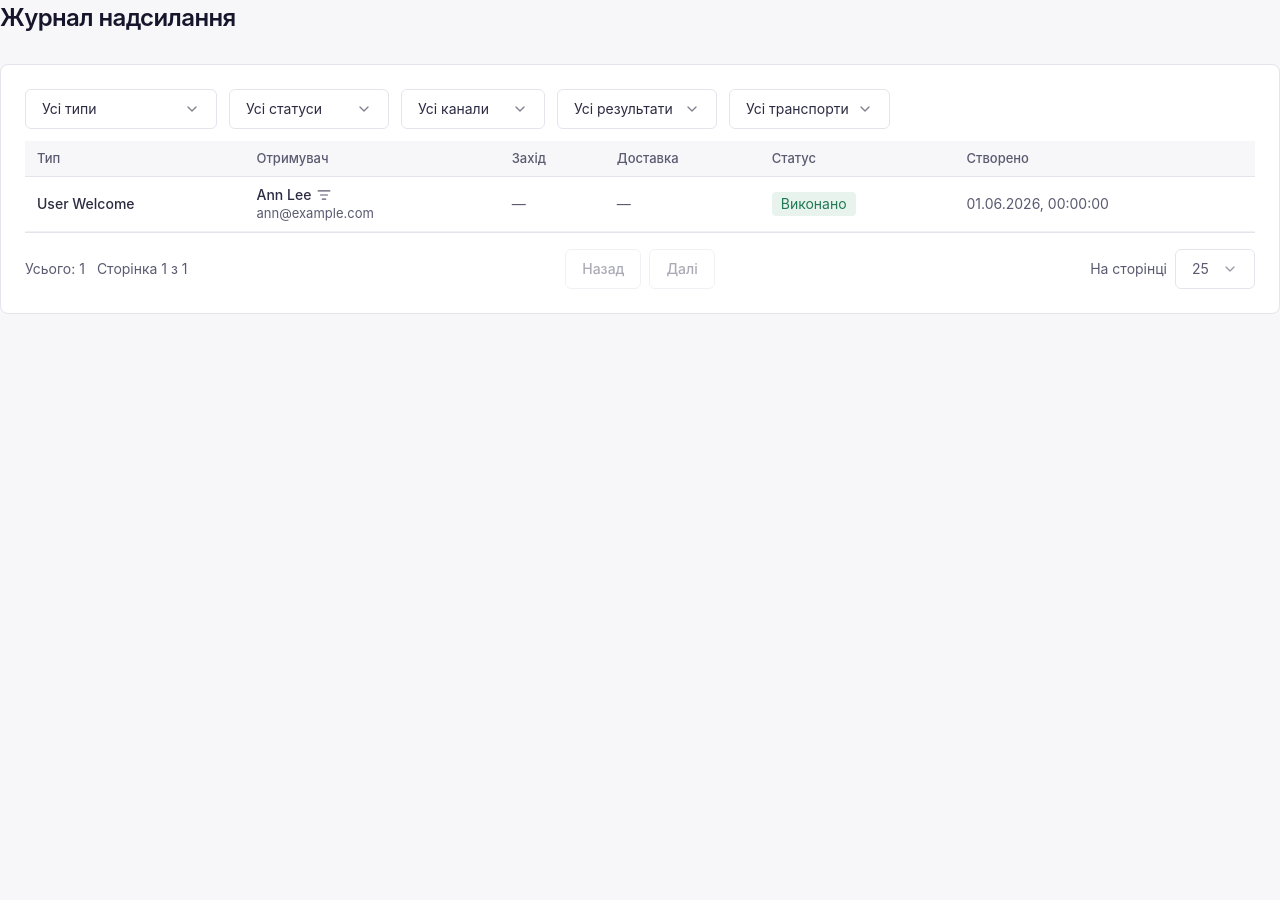
LogsTab recipient and error lines › shows one recipient row on top as a user link, none in channel cards, humanized errors
The width and height of the screenshot is (1280, 900).
Click the text "Ann Lee".
click(640, 204)  # box [25,176,1255,231]
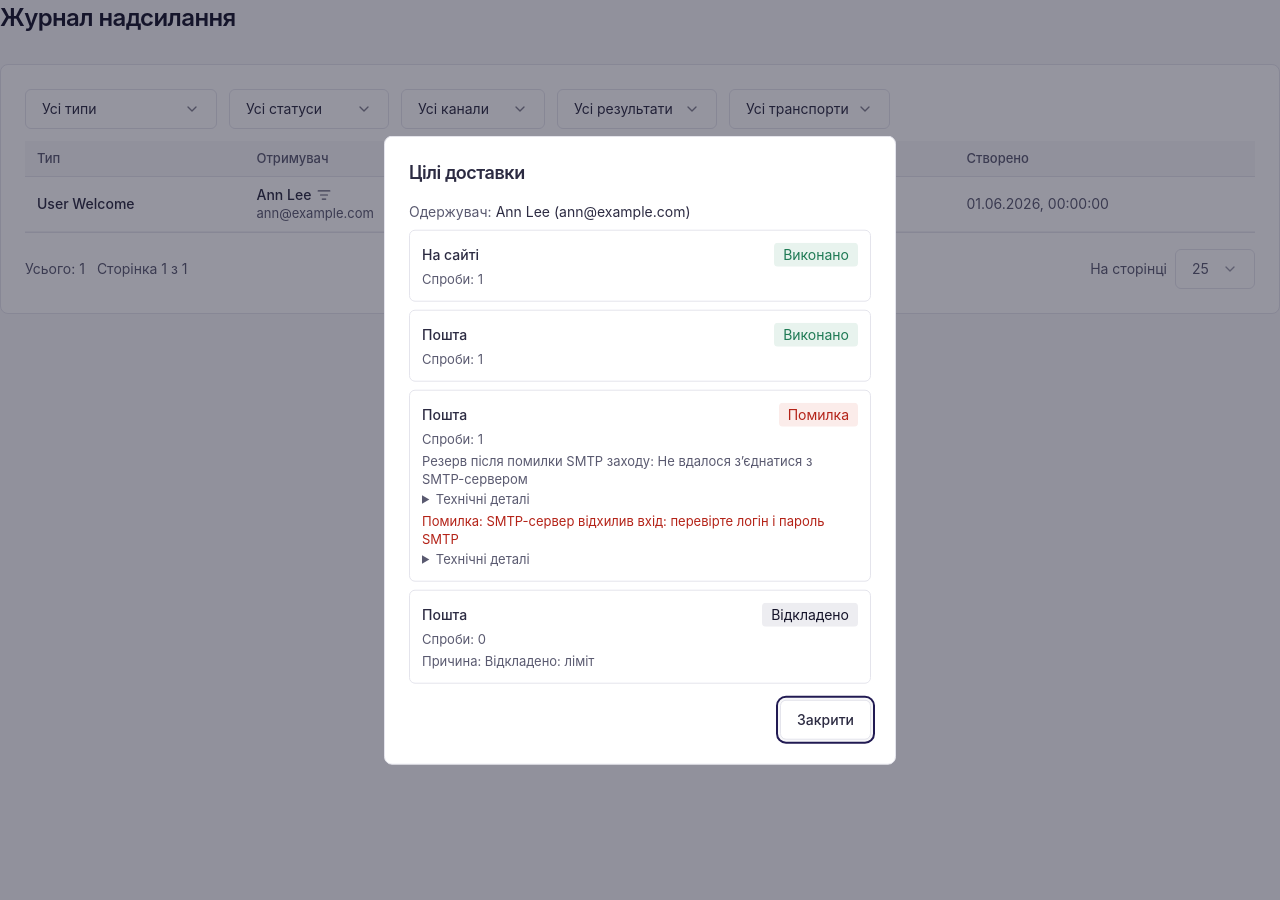
Expected: the text "Одержувач:" is shown once, [409,202,492,222]
Expected: the text "SMTP-сервер відхилив вхід" is shown, [422,512,824,546]
Expected: the text "Не вдалося зʼєднатися з SMTP-сервером" is shown, [422,452,812,486]
